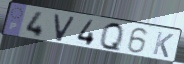4: (23, 11, 45, 40), (75, 18, 96, 47)
6: (125, 27, 150, 55)
K: (151, 30, 175, 59)
Q: (99, 21, 125, 54)
V: (53, 13, 77, 43)
